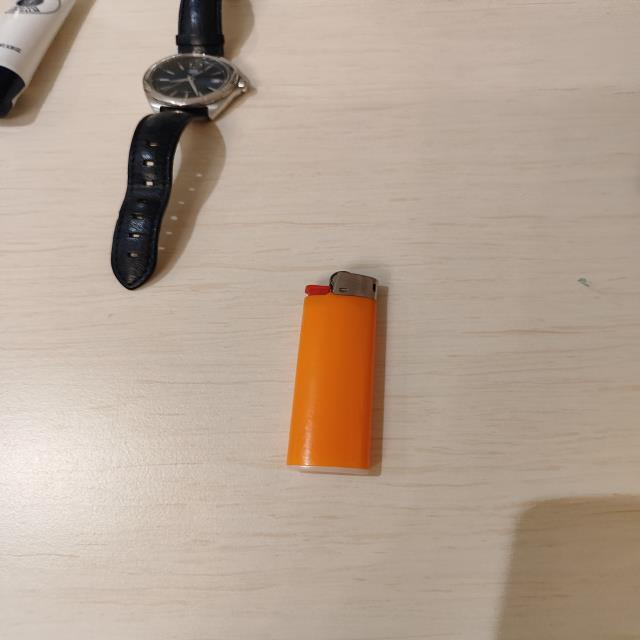lighter: (288, 271, 386, 473)
